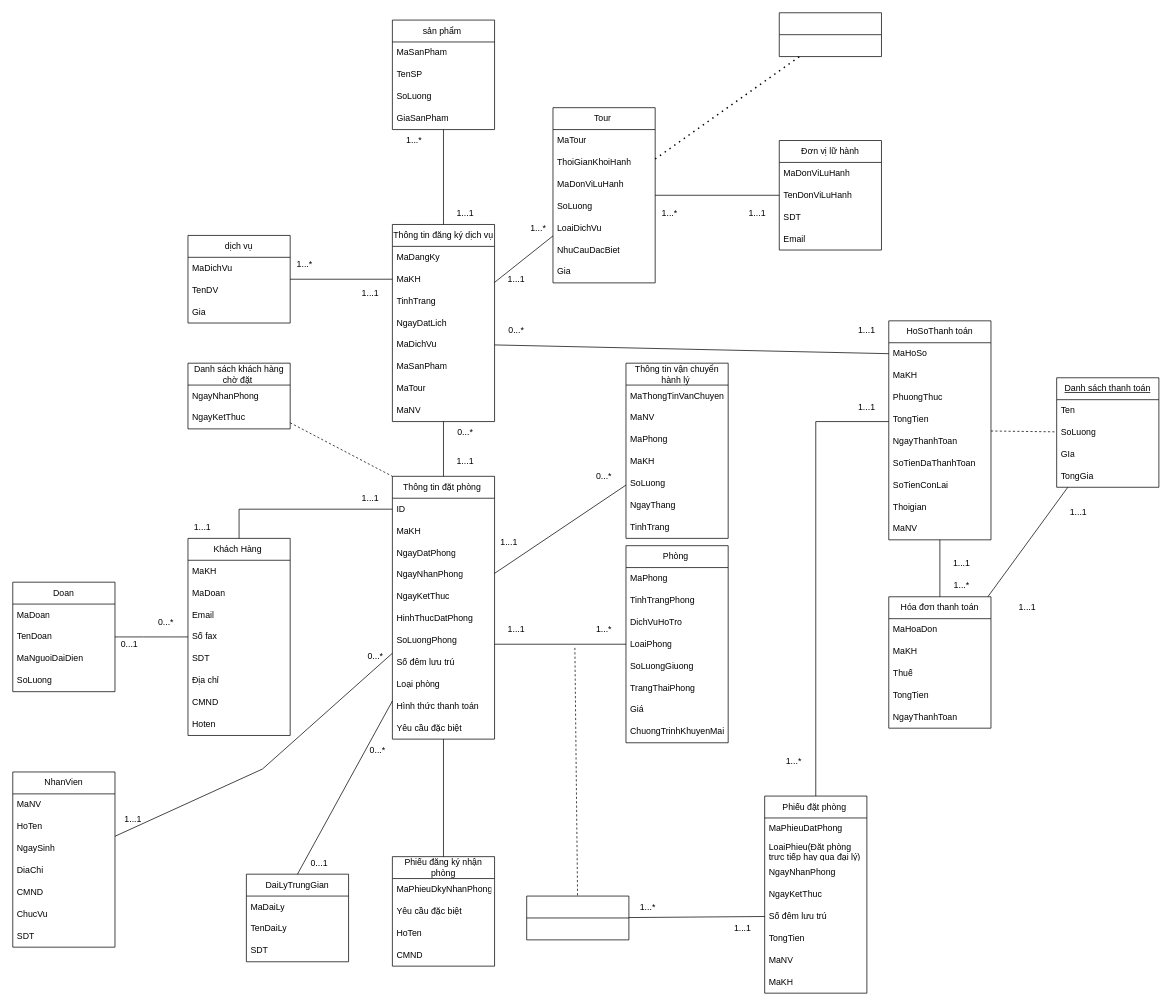
The diagram is 1172 pixels wide and 1006 high, and some of its shapes have lost their labels. The shapes that lost their labels are listed below. From the top down, each one's centre as x and y in pixels, then its label:
(x=830, y=34): DanhSachThamGiaTour
(x=577, y=917): Danh sach phòng đặt
